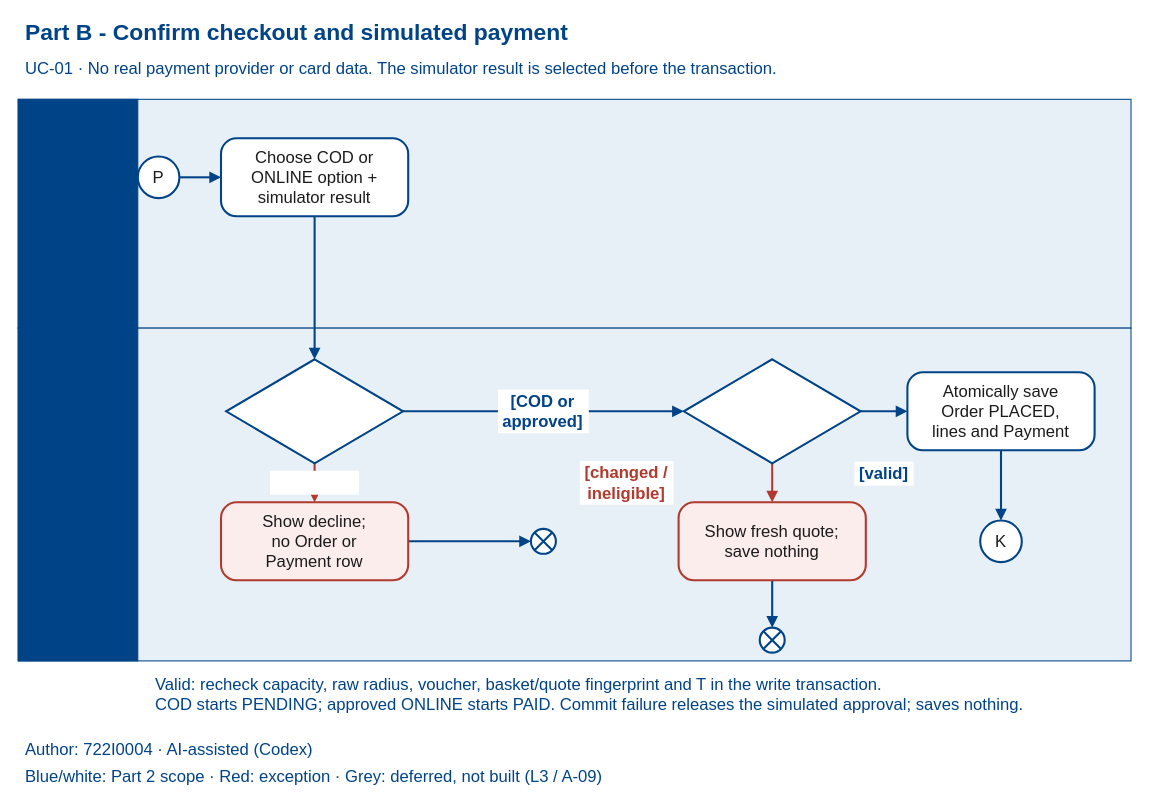
This 1149x804 diagram has some shape labels left out. The shapes that lost their labels are listed below. From the top down, each one's centre as x and y in pixels, then its label:
At point 77,213: "Customer".
At point 314,411: "Declined ONLINE?".
At point 771,411: "Still valid?".
At point 77,494: "System".
At point 314,482: "[declined]".
